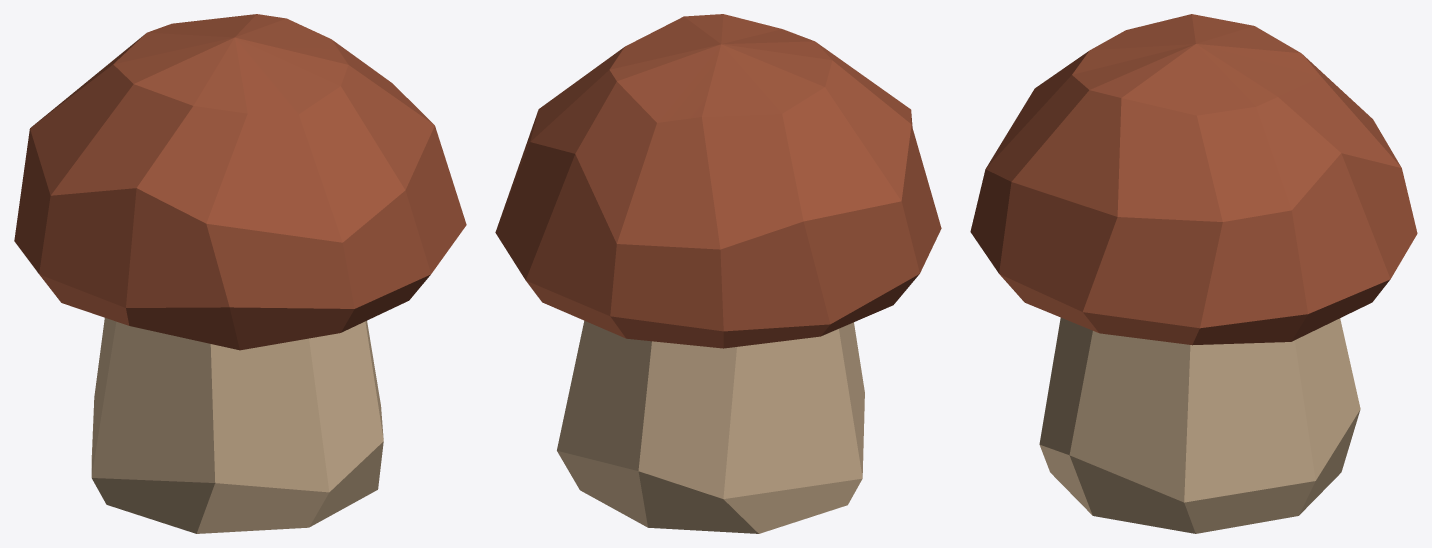
Rendered from Shroom_Raw.fbx.
The picture shows the model from 3 angles, left to right: view 1: azimuth 30°, elevation 25°; view 2: azimuth 150°, elevation 25°; view 3: azimuth 270°, elevation 25°; orthographic projection.
Visible parts, largest first — view 1: SM_Boletus_Raw; view 2: SM_Boletus_Raw; view 3: SM_Boletus_Raw.
Boxes of the visible parts, x1=… form: SM_Boletus_Raw: x1=14, y1=14, x2=466, y2=533; SM_Boletus_Raw: x1=495, y1=14, x2=941, y2=533; SM_Boletus_Raw: x1=970, y1=14, x2=1417, y2=533.
Size of the model in its own units: 8.12 by 8.42 by 7.96.
1 material, 1 textured.
